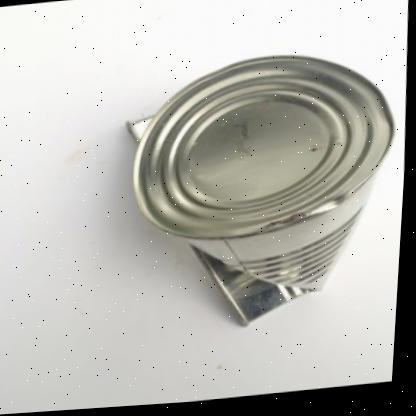Metal: (129, 60, 394, 330)
